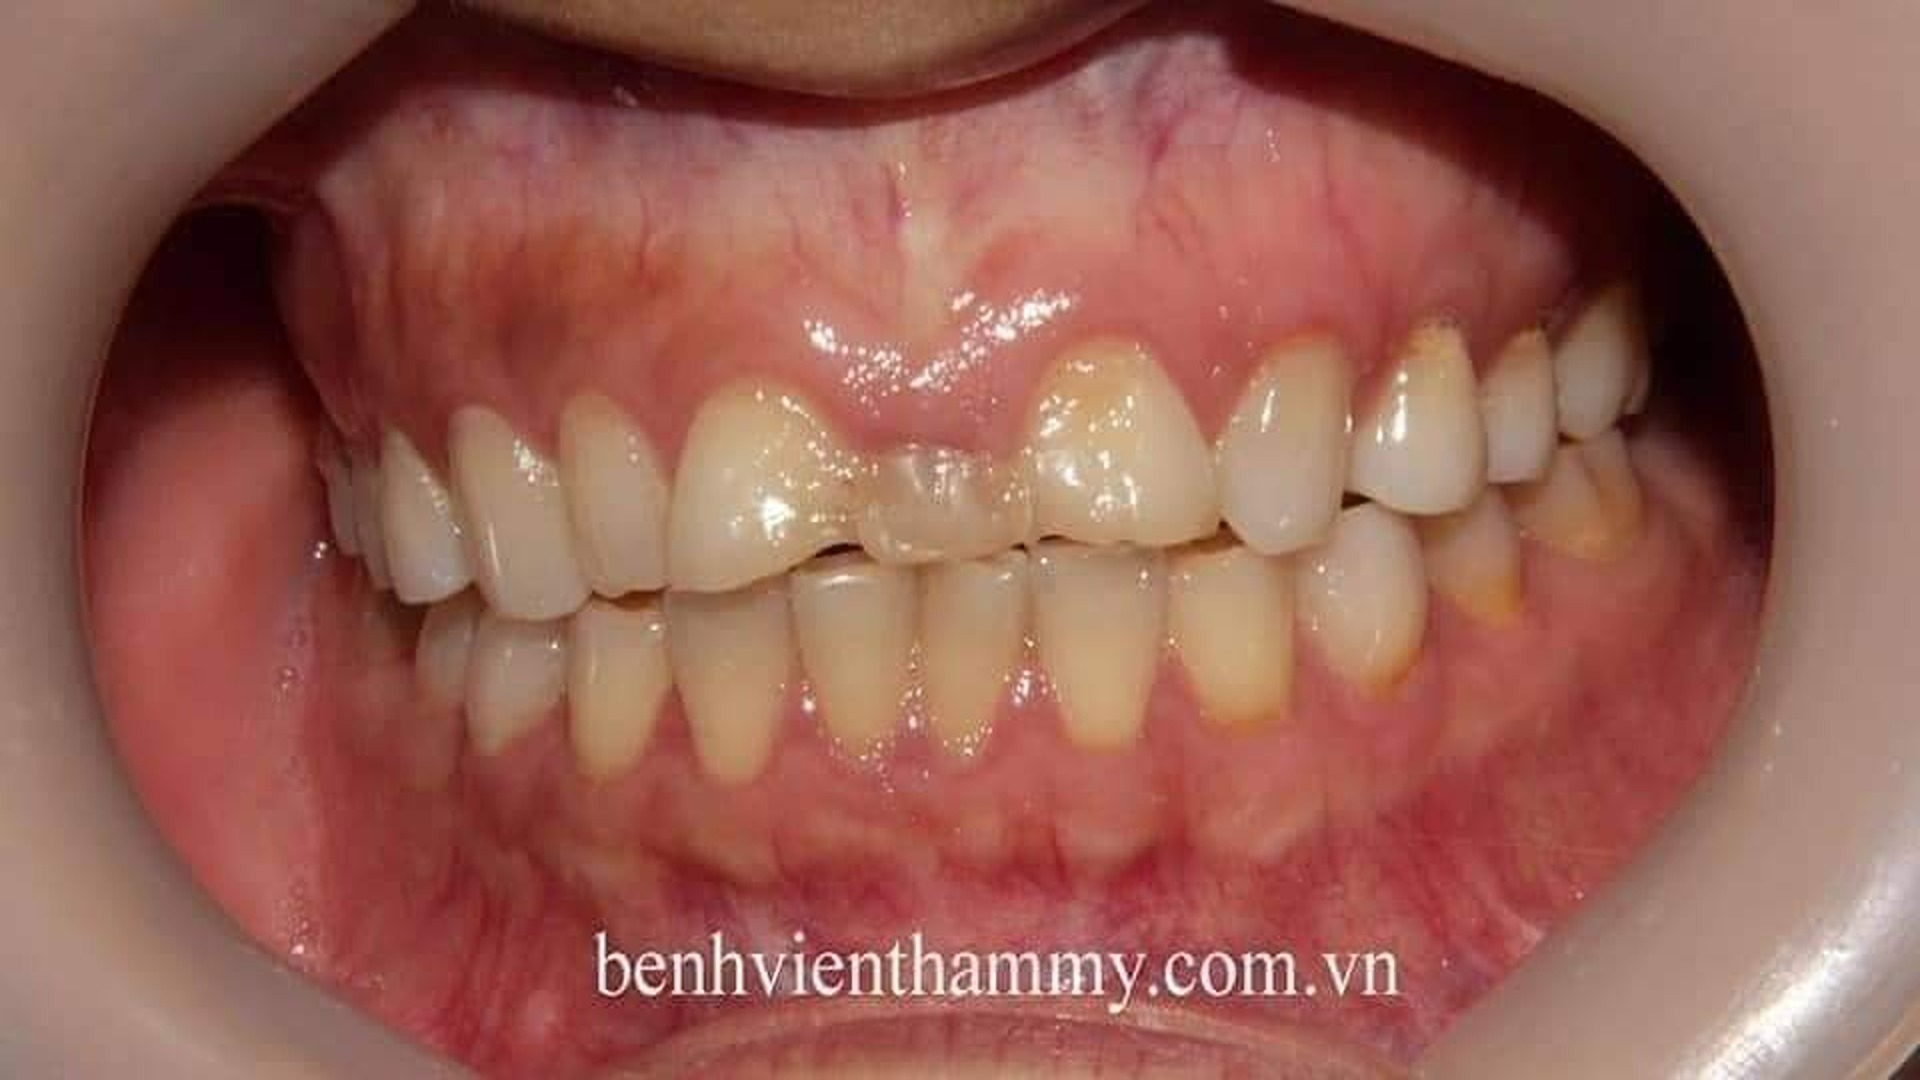tooth: (667, 378, 855, 592), (1025, 340, 1218, 545), (448, 404, 593, 620), (1215, 334, 1352, 554), (1034, 541, 1168, 748), (1345, 322, 1487, 516), (669, 578, 800, 781), (1294, 502, 1428, 698), (916, 551, 1043, 758), (793, 563, 916, 761), (1168, 550, 1303, 721), (559, 393, 669, 597), (566, 607, 671, 778), (380, 427, 472, 604), (1410, 487, 1520, 628), (465, 609, 567, 756), (1553, 286, 1648, 434), (1530, 430, 1644, 549), (1480, 328, 1559, 484), (415, 589, 480, 719)
